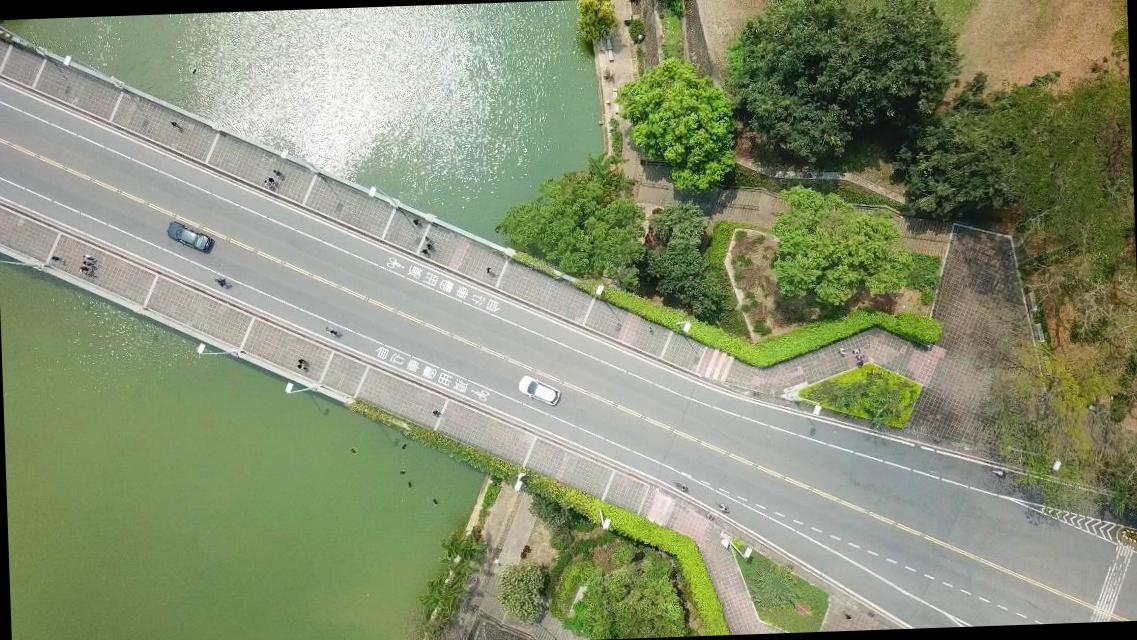vehicle: (166, 217, 212, 253), (518, 374, 560, 406)
